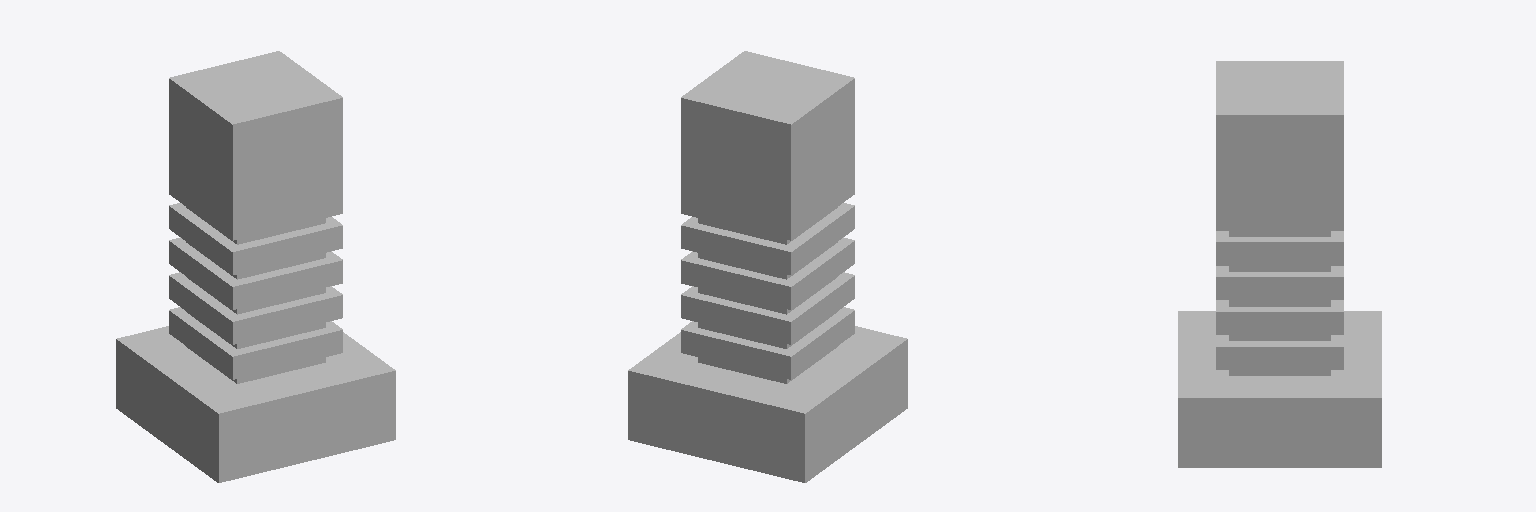
The model's file is e_meter.obj.
The picture shows the model from 3 angles: view 1: azimuth 30°, elevation 25°; view 2: azimuth 150°, elevation 25°; view 3: azimuth 270°, elevation 25°; orthographic projection.
Parts seen in each view (by area): view 1: base; view 2: base; view 3: base.
Part boxes in pixels (x1,y1,x2,y2): base: (116, 51, 395, 482); base: (628, 51, 907, 482); base: (1178, 61, 1381, 467).
Bounding box in the file's own units: 1 × 1.81 × 1.